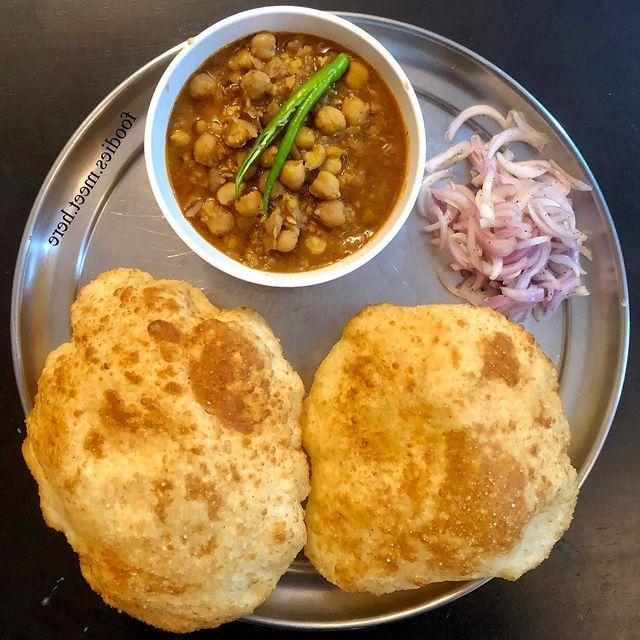Chole: (182, 36, 366, 268)
